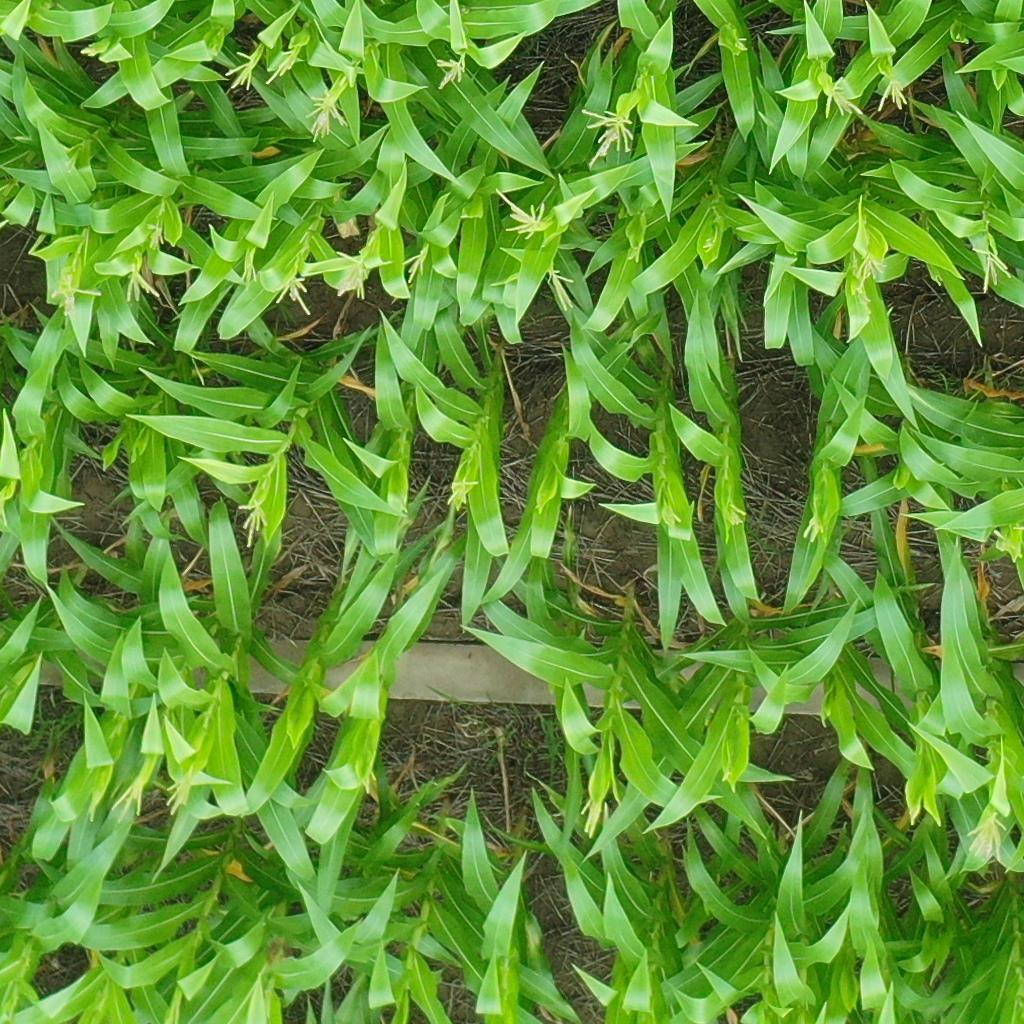Tassel: (577, 104, 641, 165), (49, 267, 103, 326), (494, 186, 550, 239), (963, 811, 1011, 869), (304, 81, 350, 141), (972, 241, 1016, 293), (235, 494, 274, 550), (275, 268, 316, 319), (820, 72, 865, 118), (163, 765, 201, 819), (847, 252, 889, 300), (337, 249, 373, 304), (109, 780, 151, 821), (221, 47, 259, 91), (432, 50, 470, 91), (123, 262, 161, 302), (575, 791, 606, 839), (266, 43, 302, 84), (402, 241, 432, 290), (875, 73, 909, 114), (548, 268, 576, 315), (653, 493, 686, 532), (717, 496, 747, 536), (449, 472, 479, 507), (237, 247, 261, 290), (991, 527, 1024, 558), (801, 508, 828, 544), (143, 217, 164, 250), (730, 30, 753, 56), (78, 40, 103, 60), (625, 242, 642, 265), (701, 235, 716, 254)
